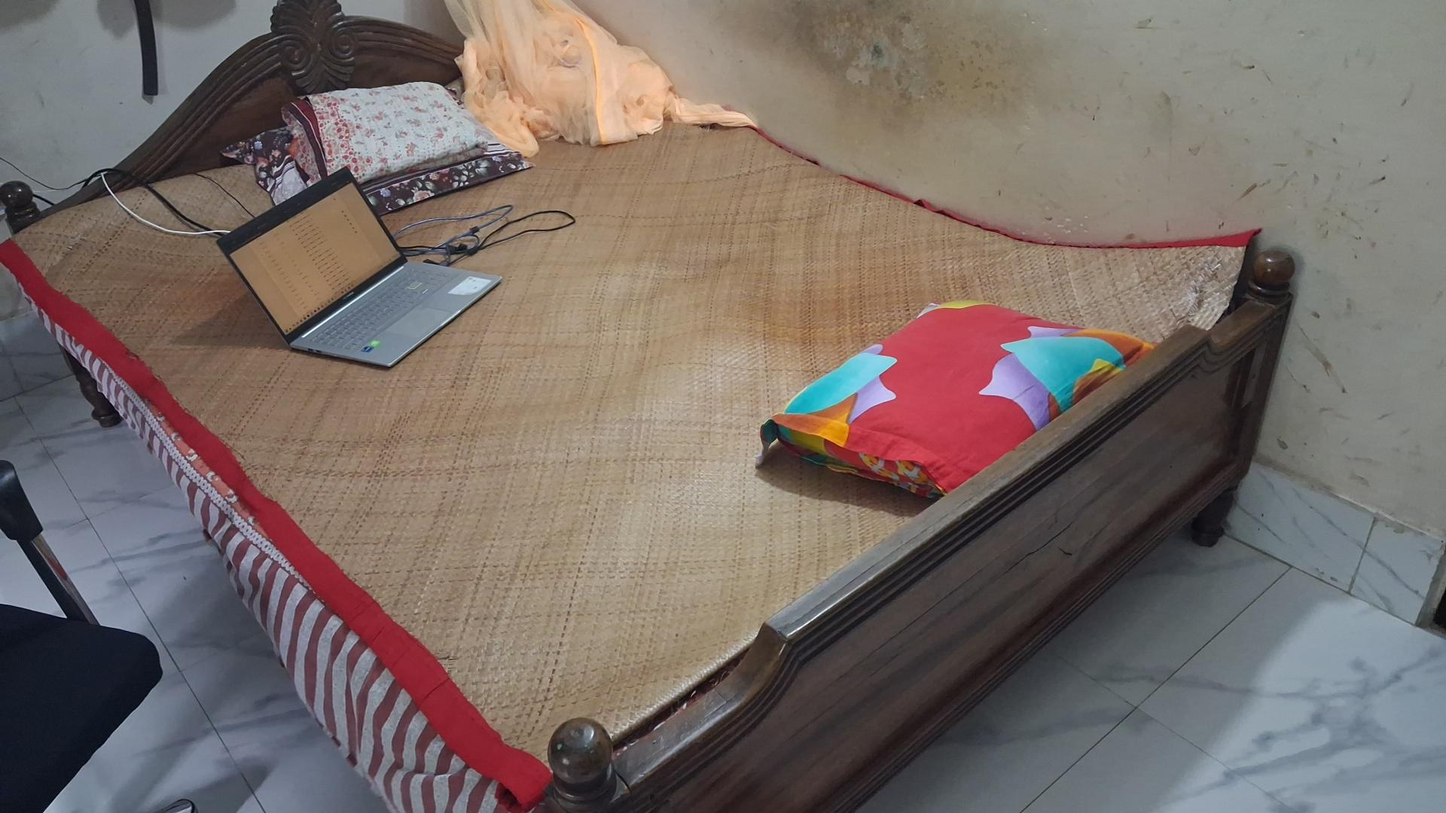Blanket: (281, 80, 486, 178)
Chair: (0, 603, 163, 810)
Laptop: (216, 165, 504, 370)
Pillow: (758, 300, 1159, 510)
